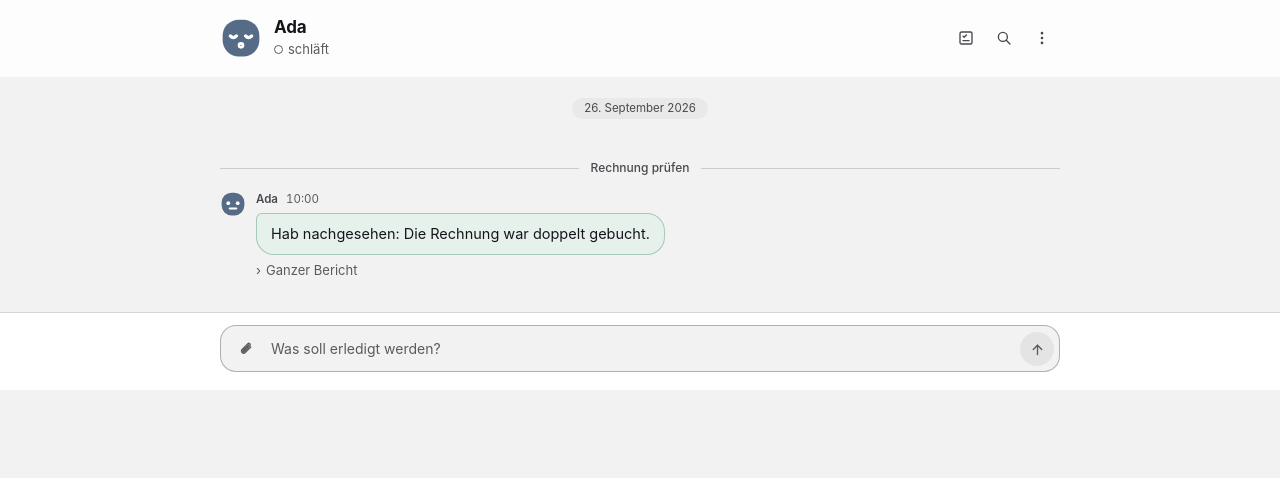
Thread › zeigt, was der Agent zum Ergebnis sagt, und den Bericht auf Klick
Expected: the text "Hab nachgesehen: Die Rechnung war doppelt gebucht." is shown, x1=271 y1=222 x2=650 y2=245
Click the heading "Ganzer Bericht". click: (307, 271)
box: x1=256 y1=261 x2=357 y2=280
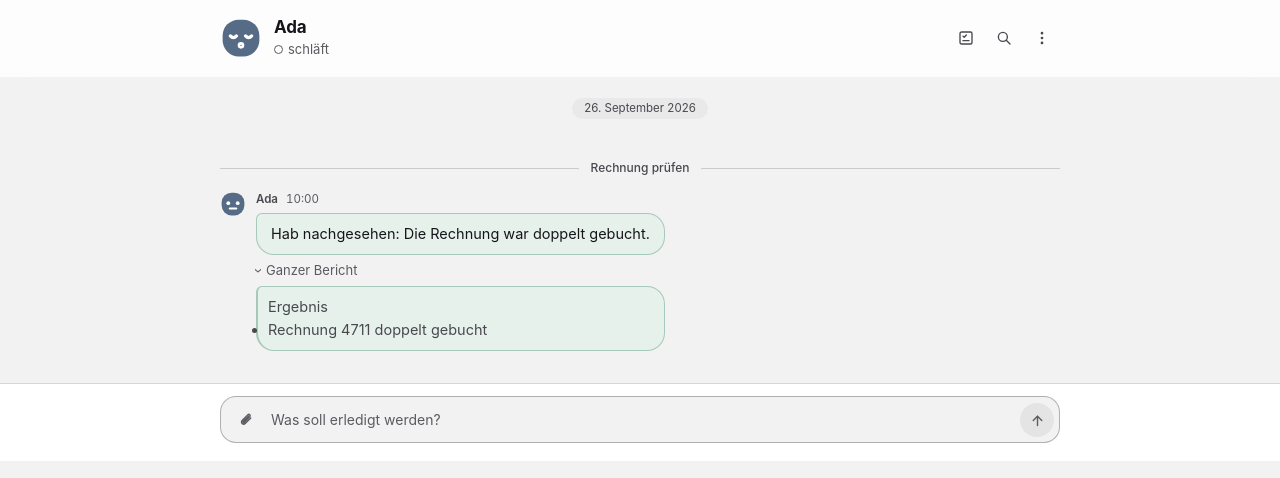
Result: the list item "Rechnung 4711 doppelt gebucht" is shown at x1=268 y1=321 x2=487 y2=338
